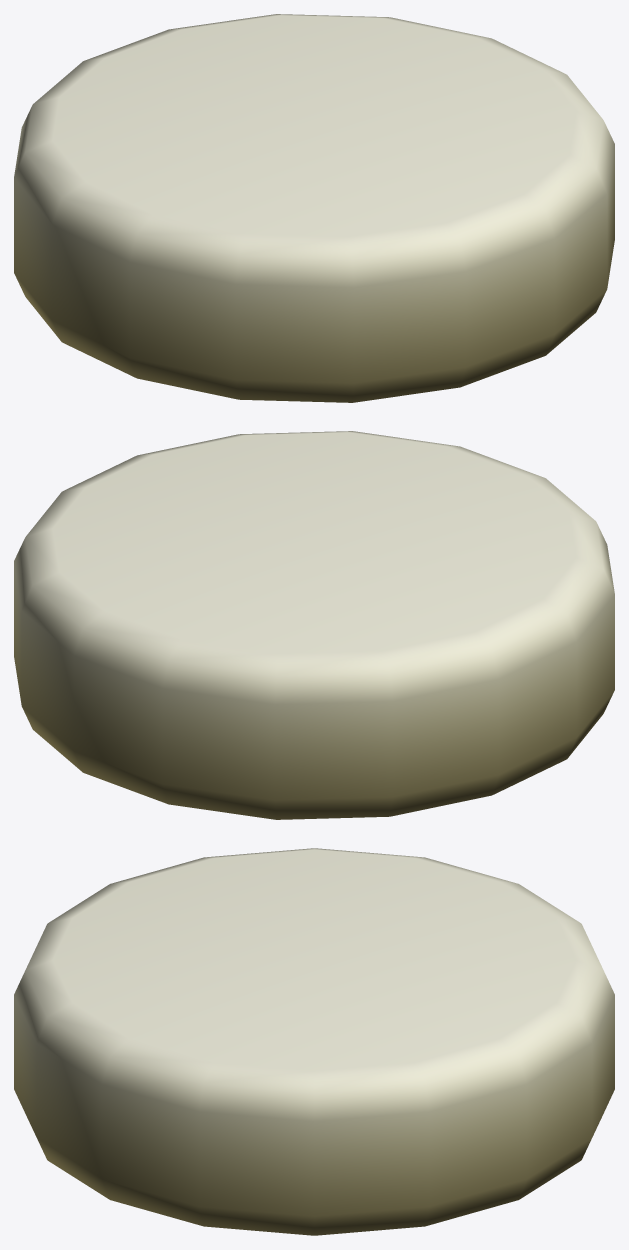
The model's file is White_Cheese_01.glb.
3 views of the same model, one above another, from view 1: azimuth 30°, elevation 25°; view 2: azimuth 150°, elevation 25°; view 3: azimuth 270°, elevation 25° (orthographic).
Visible parts, largest first — view 1: White_Cheese_01; view 2: White_Cheese_01; view 3: White_Cheese_01.
Boxes of the visible parts, x1,y1,x2,y2 form: White_Cheese_01: [14, 14, 614, 402]; White_Cheese_01: [14, 431, 614, 819]; White_Cheese_01: [14, 848, 614, 1235].
Bounding box in the file's own units: 0.459 × 0.1377 × 0.459.
Materials: 1 (1 with a texture image).
